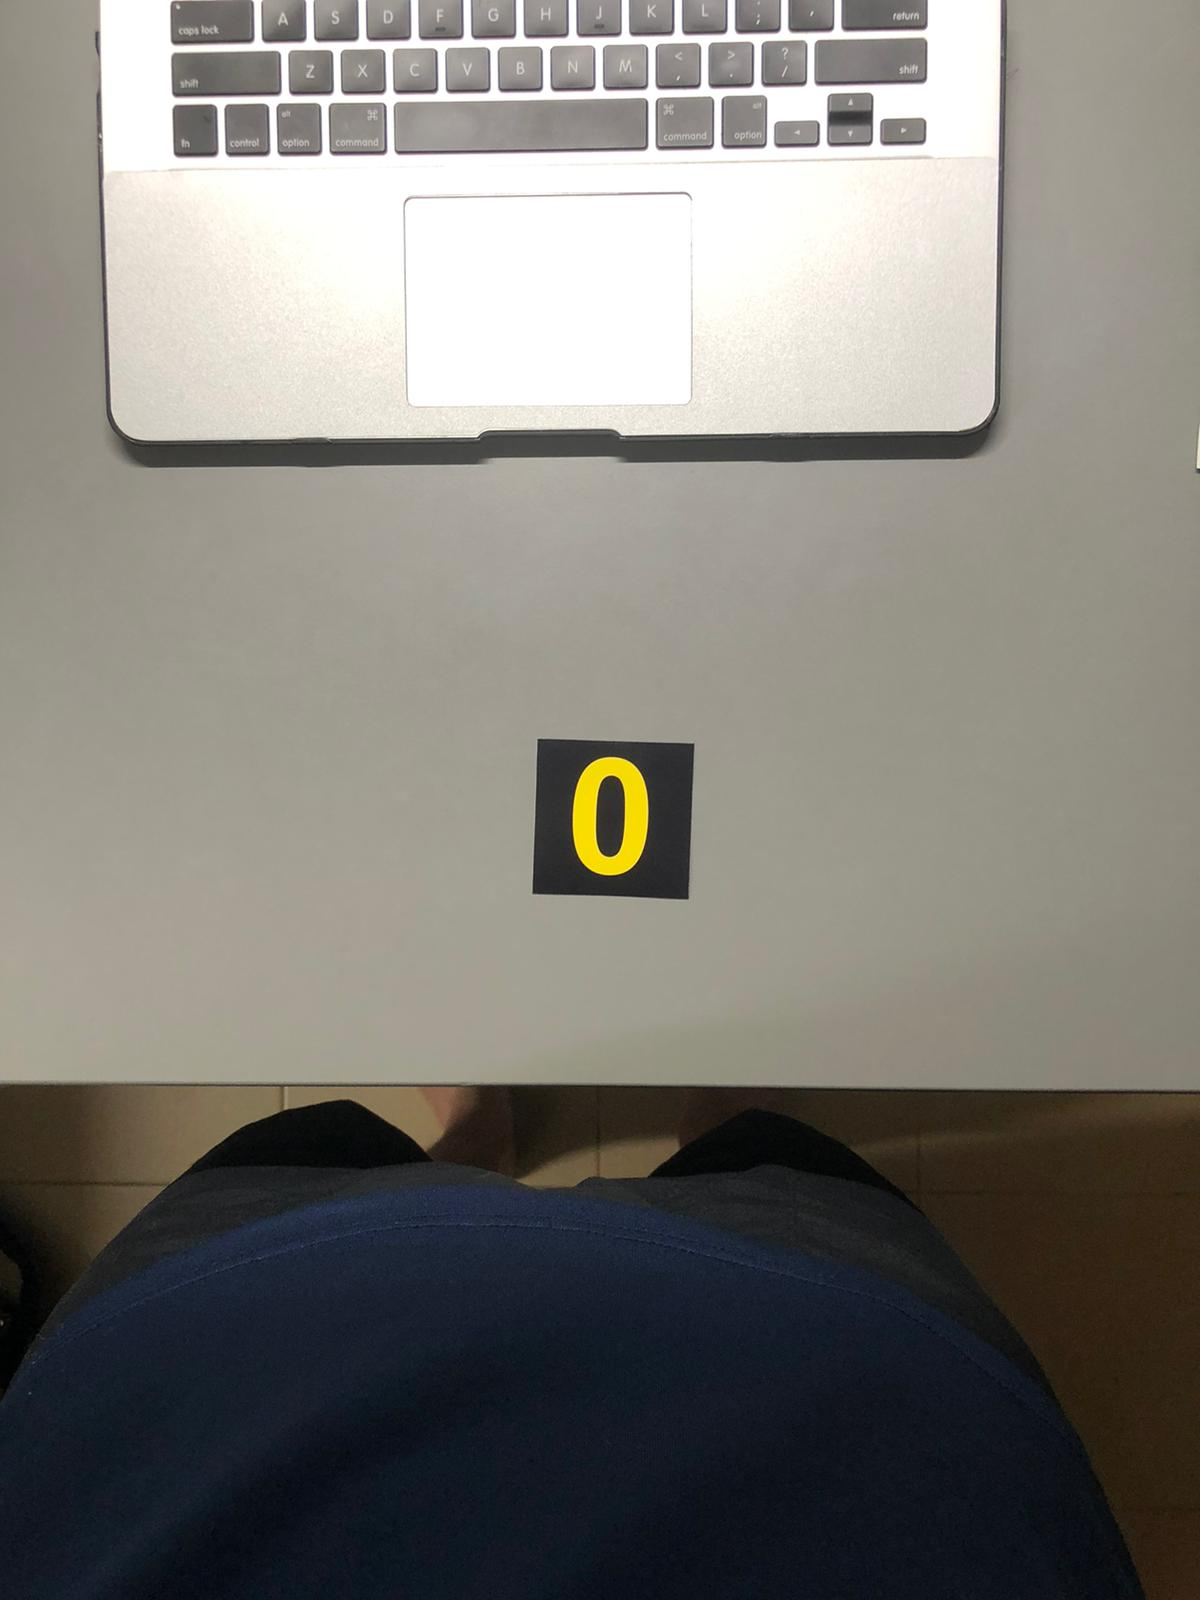Number 0: (534, 733, 691, 898)
